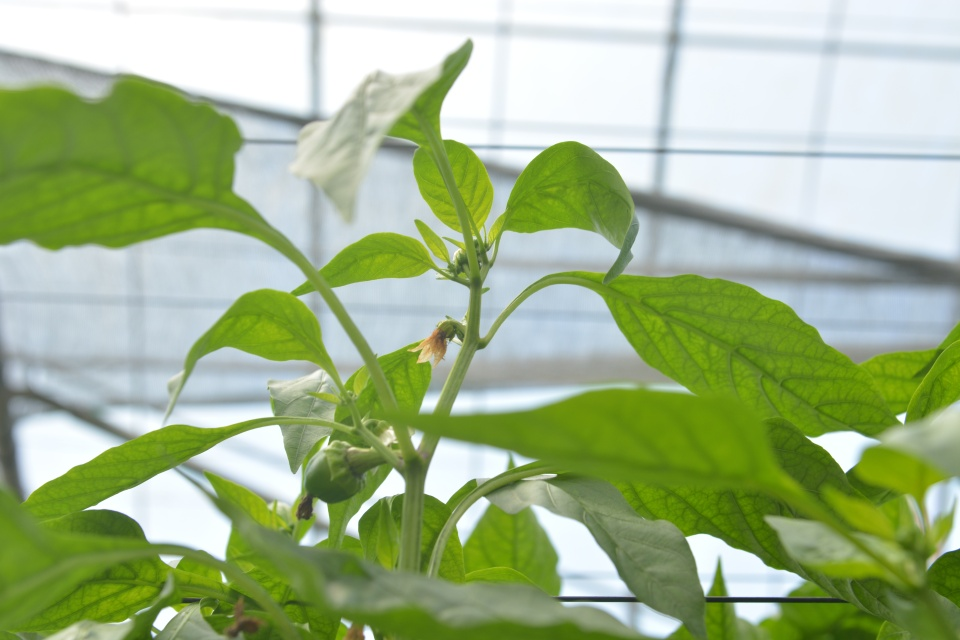immature: (294, 439, 368, 524)
